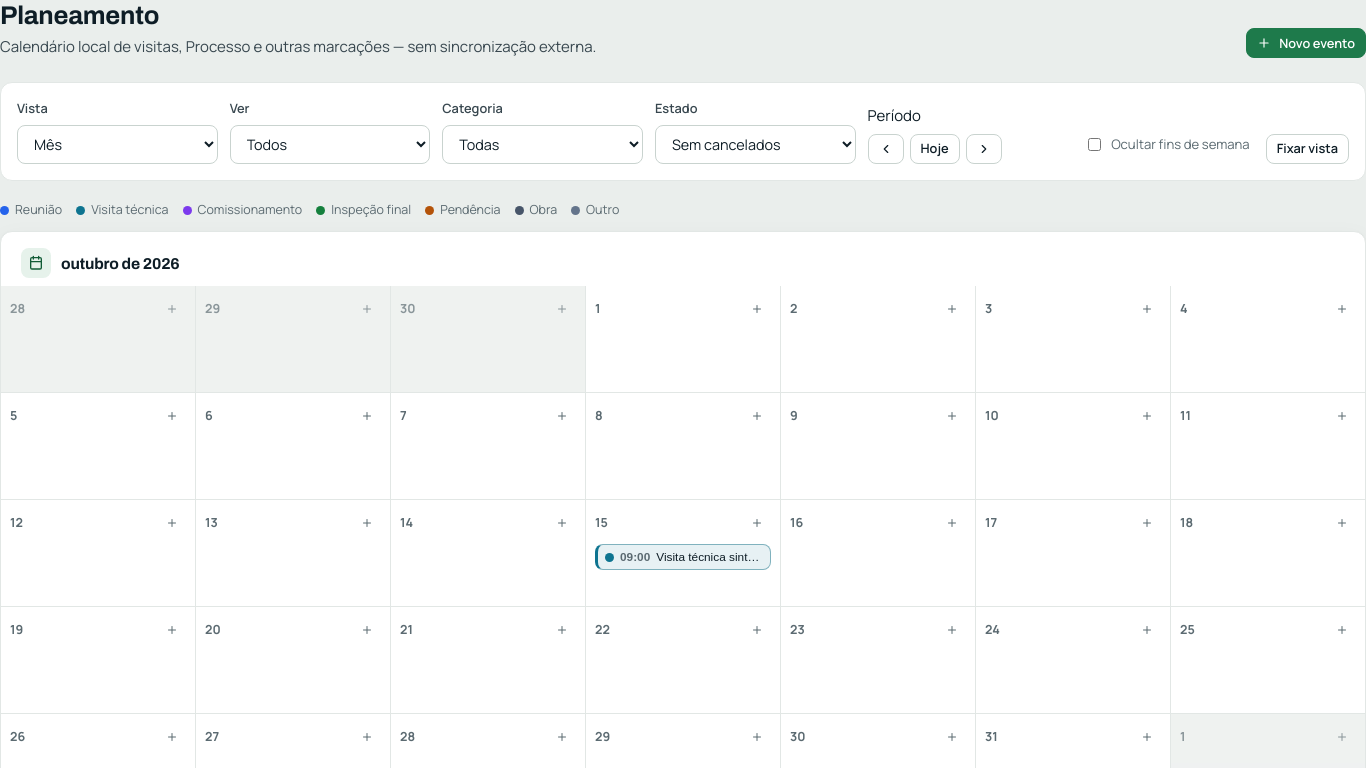
Test: Planeamento › oculta fins de semana na apresentação sem encurtar o intervalo pedido ao servidor
This screenshot has width=1366, height=768.
Check: the text "Visita técnica sintética" is shown, box left=656, top=550, right=763, bottom=564
Select "Semana" in the dropdown labelled "Vista". click: (117,144)
box: left=17, top=125, right=218, bottom=164
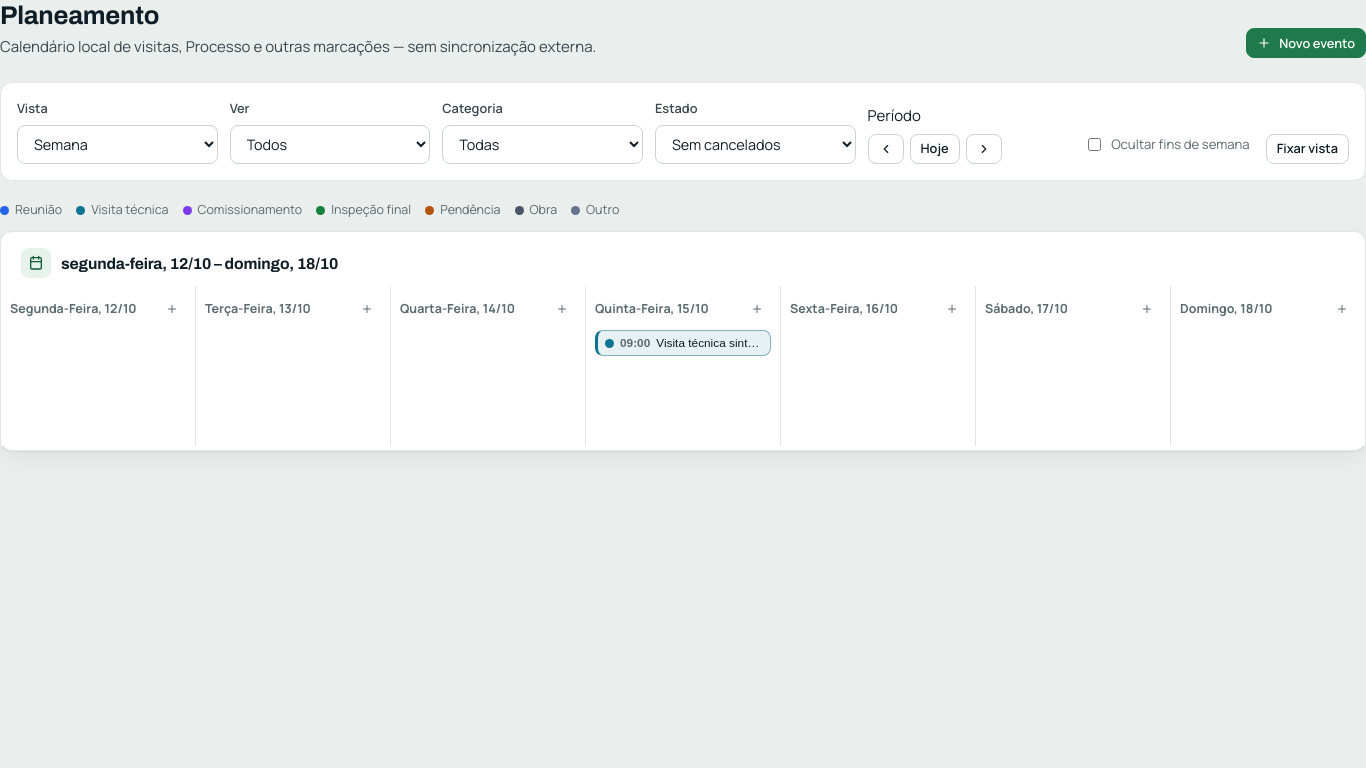
Check: the number of elements with test id "planning-day" is 7
Click the checkbox labelled "Ocultar fins de semana". click: (1095,145)
box: left=1088, top=138, right=1101, bottom=151
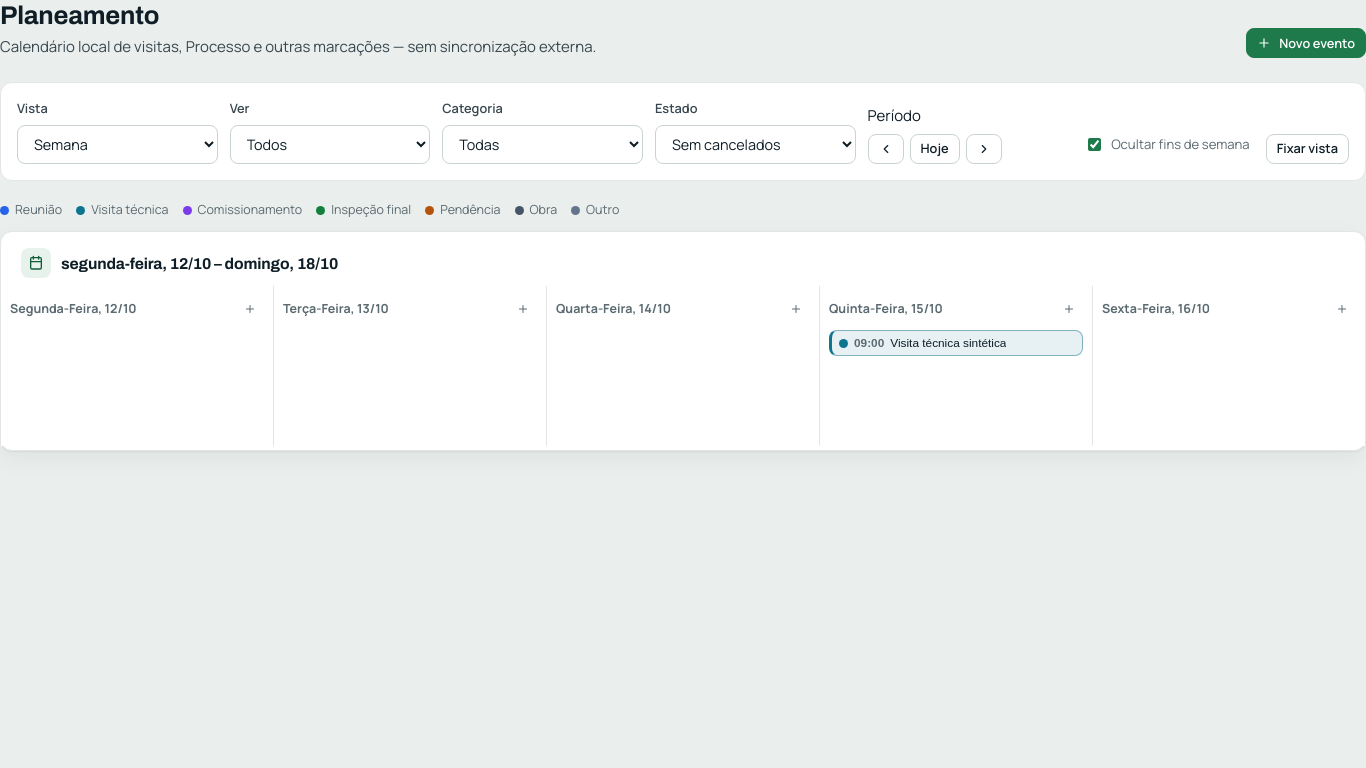
Check: the number of elements with test id "planning-day" is 5, box left=1, top=286, right=273, bottom=446; left=274, top=286, right=546, bottom=446; left=547, top=286, right=819, bottom=446; left=820, top=286, right=1092, bottom=446; left=1093, top=286, right=1365, bottom=446
